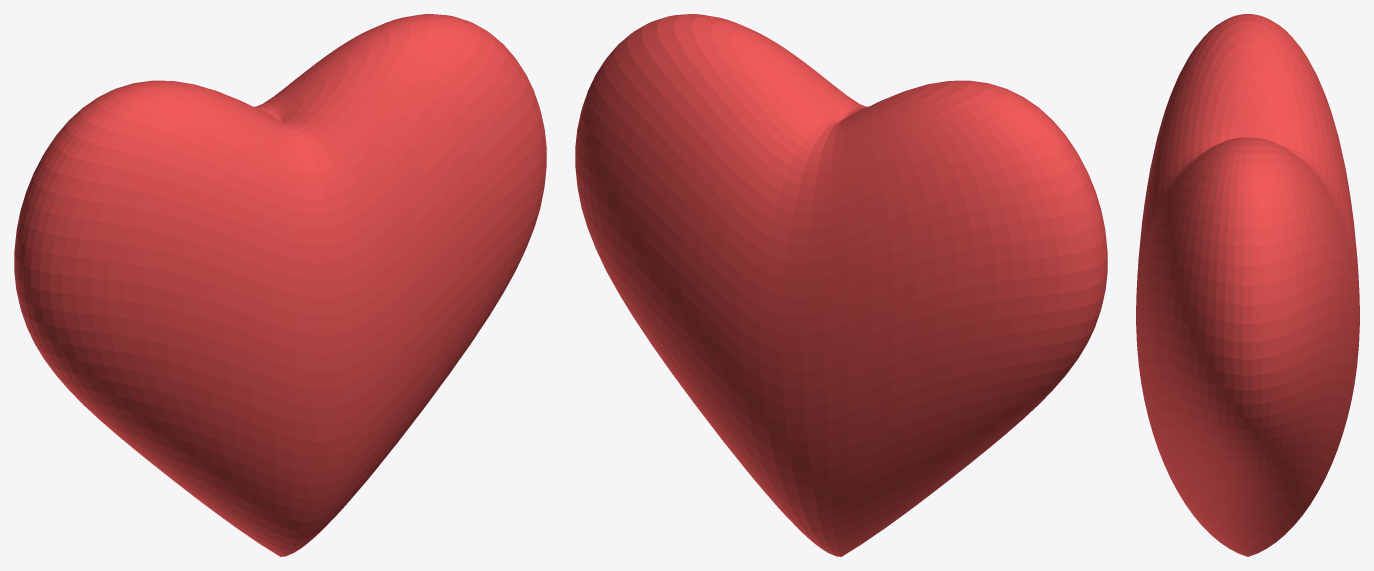
File: heart.FBX
The picture shows the model from 3 angles, left to right: view 1: azimuth 30°, elevation 25°; view 2: azimuth 150°, elevation 25°; view 3: azimuth 270°, elevation 25°; orthographic projection. The views are drawn at different scales.
Visible parts, largest first — view 1: Heart; view 2: Heart; view 3: Heart.
Part boxes in pixels (x1,y1,x2,y2): Heart: [14, 14, 546, 556]; Heart: [575, 14, 1107, 556]; Heart: [1136, 14, 1359, 556].
Size of the model in its own units: 2.89 by 2.68 by 1.16.
Materials: 1 (1 with a texture image).
